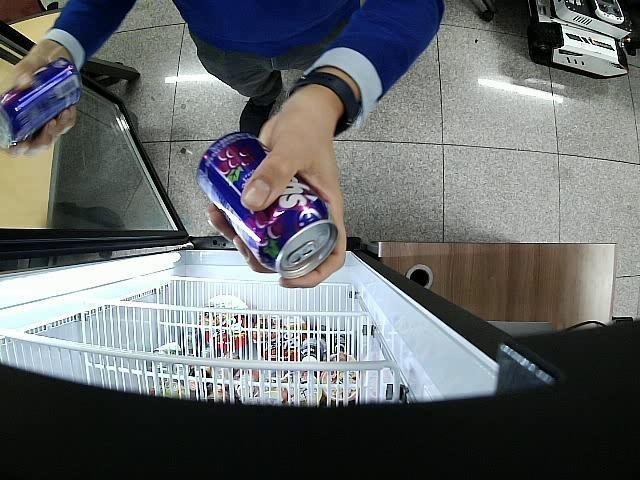14_welchsGrape: (198, 132, 338, 277), (0, 58, 86, 152)
